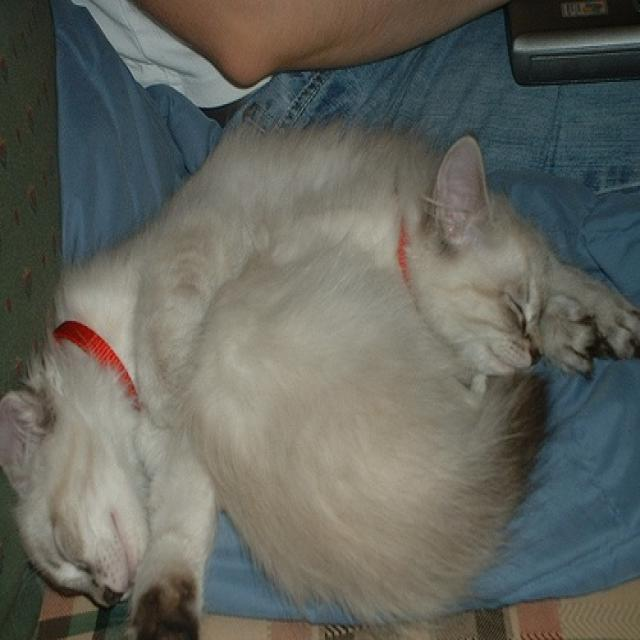cat: (1, 125, 639, 638), (187, 132, 549, 614)
